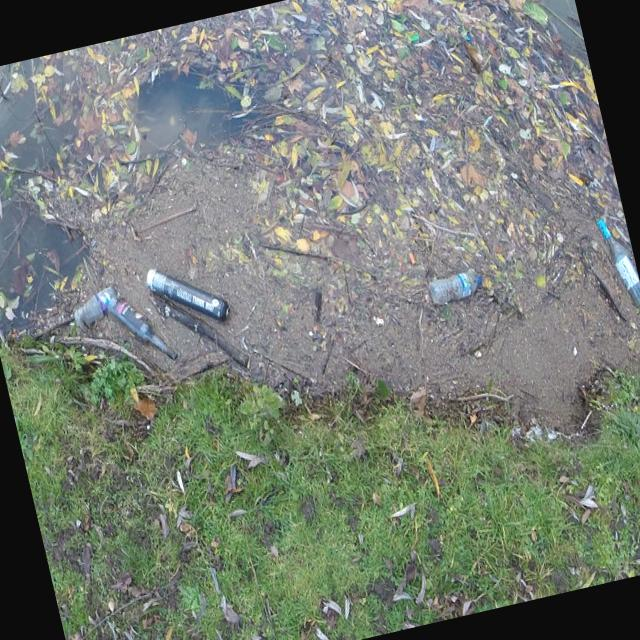Recycle: (144, 254, 232, 336), (111, 289, 177, 371), (592, 210, 640, 312), (70, 285, 124, 326), (426, 268, 485, 304)
